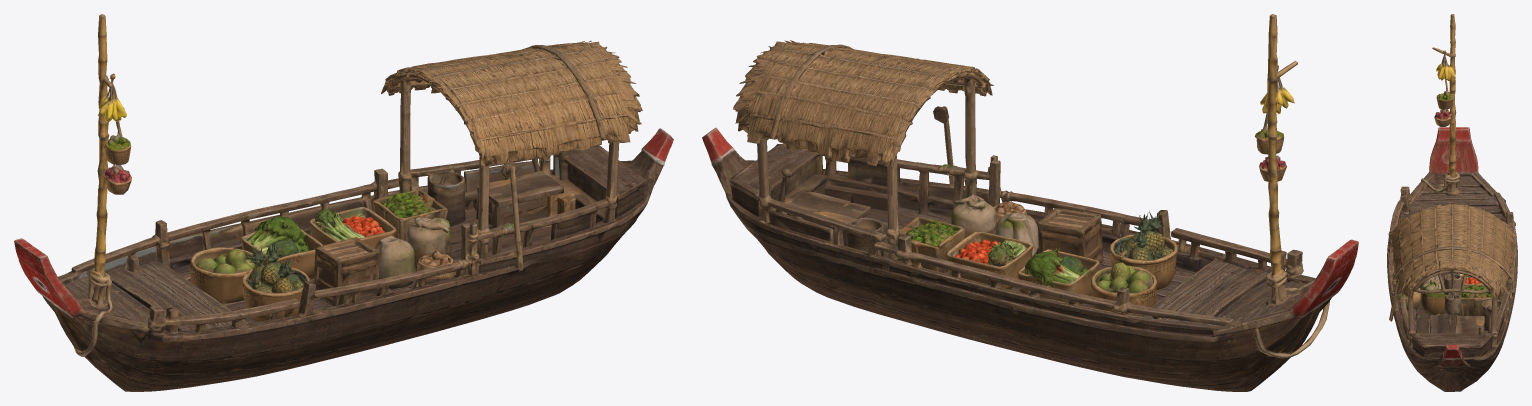
The model's file is ghe-cho-noi.glb.
3 views of the same model, side by side, from view 1: azimuth 30°, elevation 25°; view 2: azimuth 150°, elevation 25°; view 3: azimuth 270°, elevation 25° (orthographic). The views are drawn at different scales.
Bounding box in the file's own units: 0.9995 × 0.5692 × 0.2819.
1 material, 1 textured.
